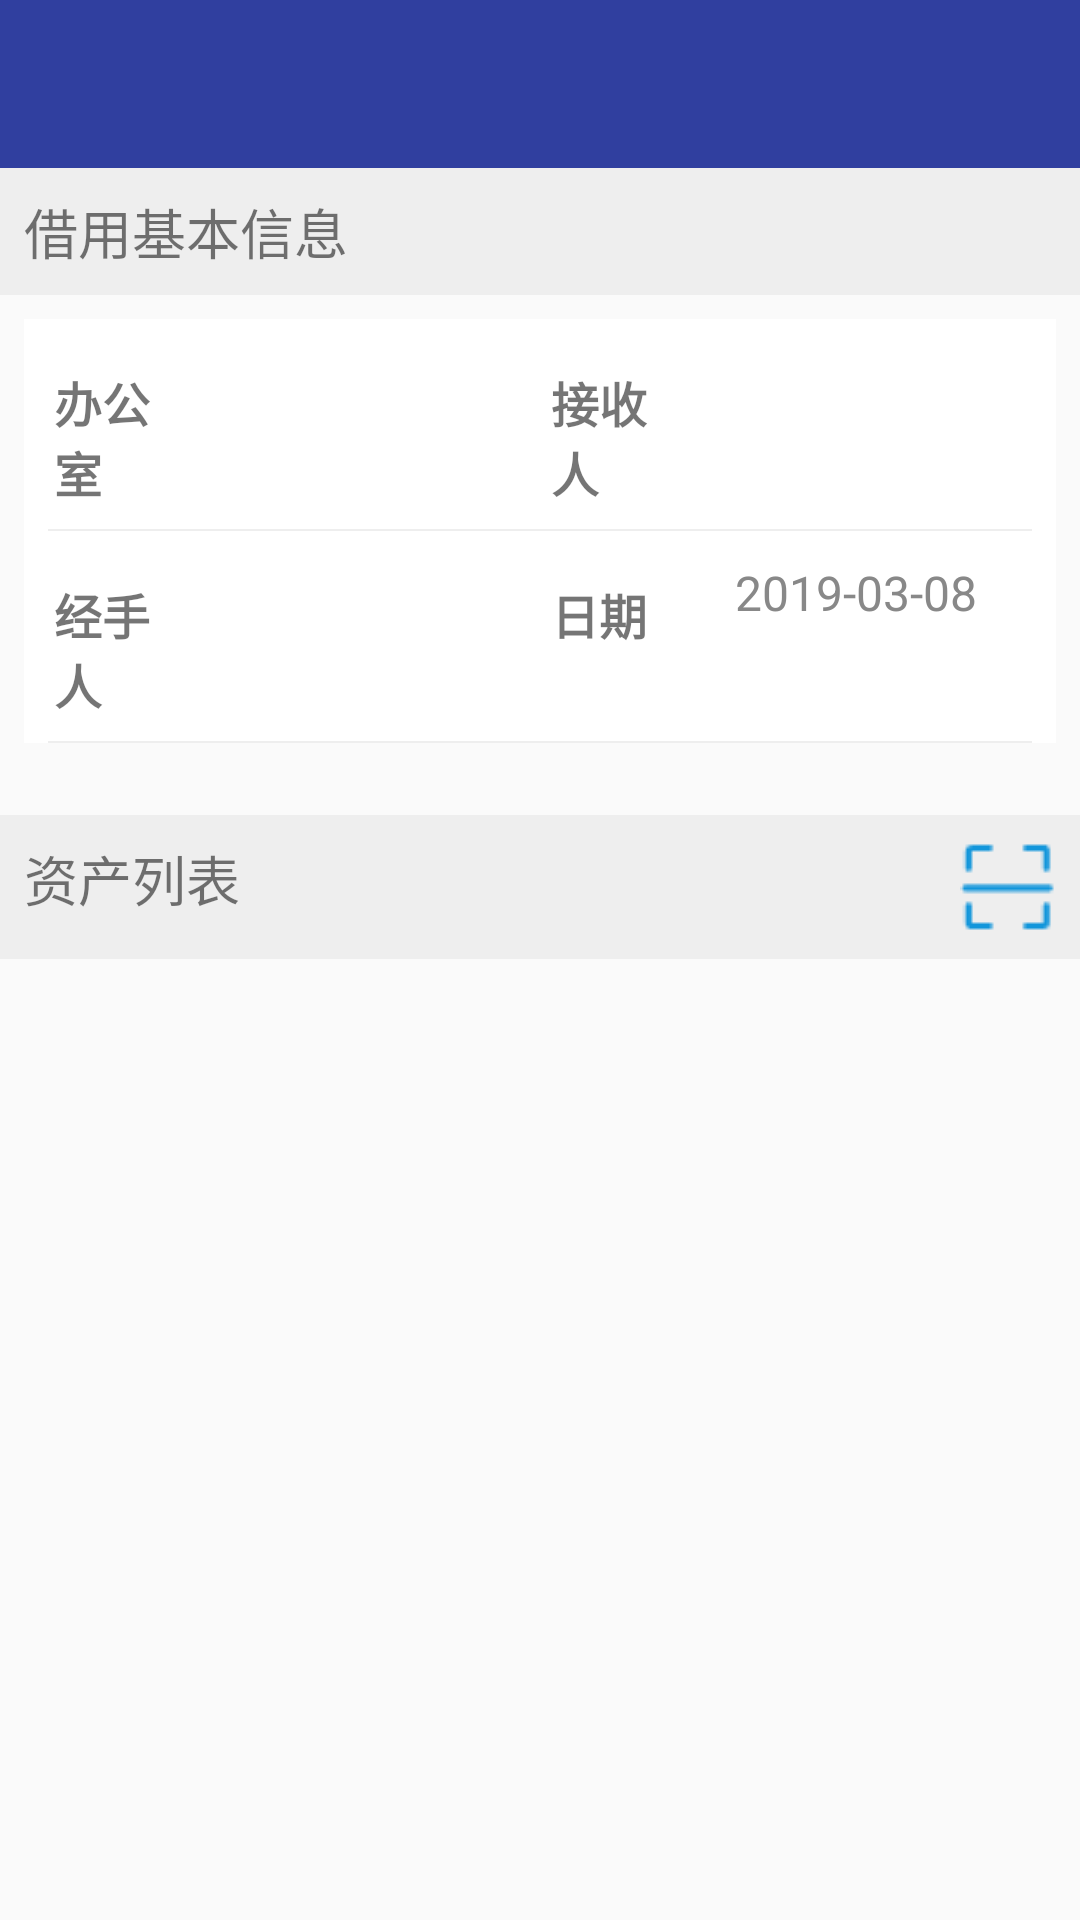

Where icons sit on this 1080px x 1920px app screen, as BBox(x1, y1, x2, y2):
开始扫描: BBox(960, 844, 1054, 930)
